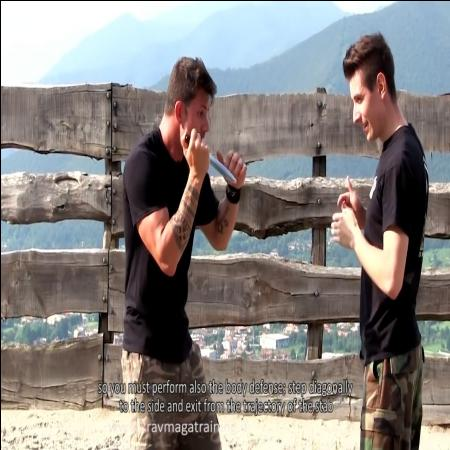long weapon: (179, 124, 239, 186)
